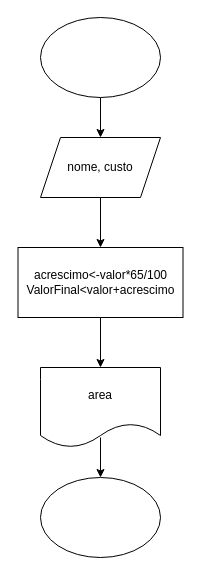
Some shapes in this 200 by 575 pixel diagram are drawn without their labels. Here are the shapes that lost their labels. From the top down, the centre of each, then its label:
point (100, 57): inicio
point (100, 517): fim.
